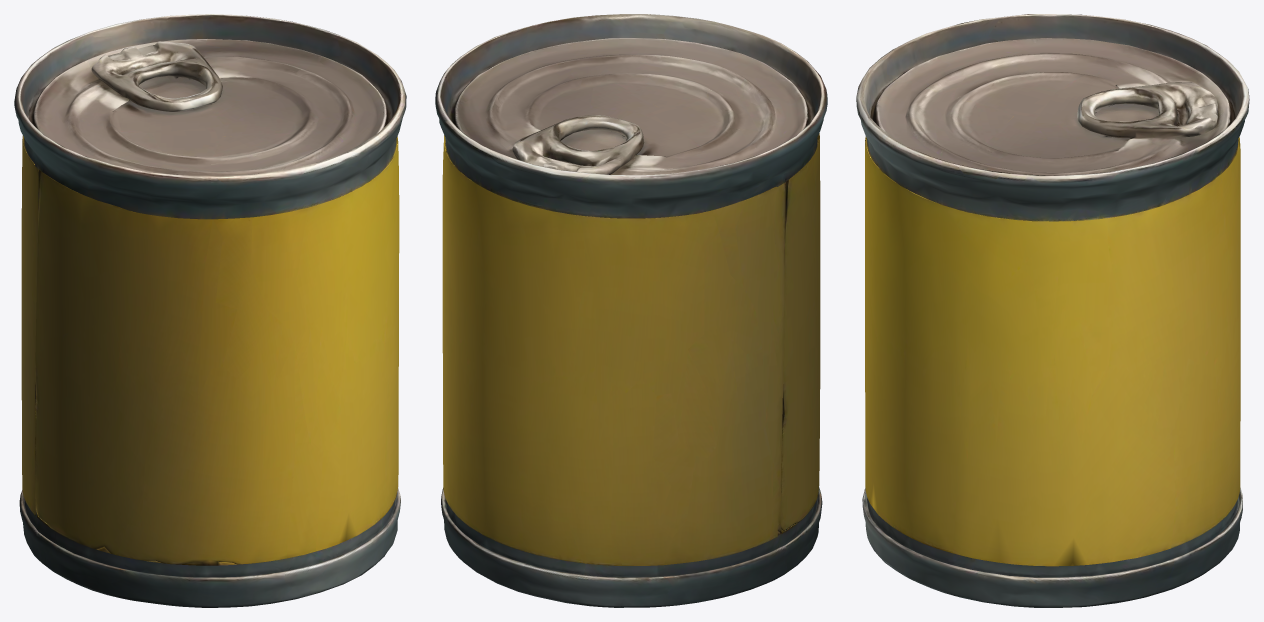
The model's file is kit-lata.glb.
3 renders of one model, left to right at view 1: azimuth 30°, elevation 25°; view 2: azimuth 150°, elevation 25°; view 3: azimuth 270°, elevation 25°, orthographic.
Visible parts, largest first — view 1: tripo_node_5d7a3844-9646-44d6-a4ae-a1462249c5e1; view 2: tripo_node_5d7a3844-9646-44d6-a4ae-a1462249c5e1; view 3: tripo_node_5d7a3844-9646-44d6-a4ae-a1462249c5e1.
Boxes of the visible parts, box(x1,y1,x2,y2) form: tripo_node_5d7a3844-9646-44d6-a4ae-a1462249c5e1: box(14, 14, 406, 607); tripo_node_5d7a3844-9646-44d6-a4ae-a1462249c5e1: box(435, 14, 827, 607); tripo_node_5d7a3844-9646-44d6-a4ae-a1462249c5e1: box(856, 14, 1249, 607).
Size of the model in its own units: 0.8022 by 0.9805 by 0.8028.
Materials: 1 (1 with a texture image).
